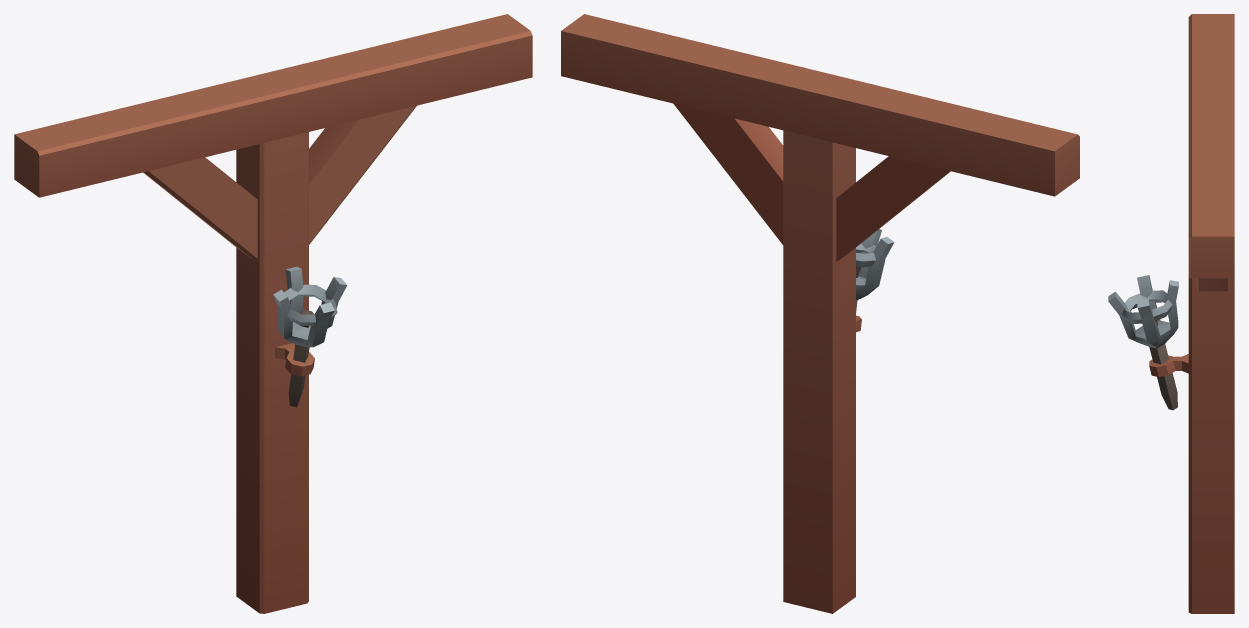
File: scaffold_pillar_wall_torch.glb
3 views of the same model, side by side, from view 1: azimuth 30°, elevation 25°; view 2: azimuth 150°, elevation 25°; view 3: azimuth 270°, elevation 25° (orthographic). The views are drawn at different scales.
Visible parts, largest first — view 1: scaffold_pillar_wall_torch; view 2: scaffold_pillar_wall_torch; view 3: scaffold_pillar_wall_torch.
Part boxes in pixels (left/top/right/bottom): scaffold_pillar_wall_torch: left=14, top=14, right=532, bottom=613; scaffold_pillar_wall_torch: left=561, top=14, right=1079, bottom=613; scaffold_pillar_wall_torch: left=1108, top=14, right=1234, bottom=613.
Bounding box in the file's own units: 4 × 4 × 0.9603.
Materials: 1 (1 with a texture image).
